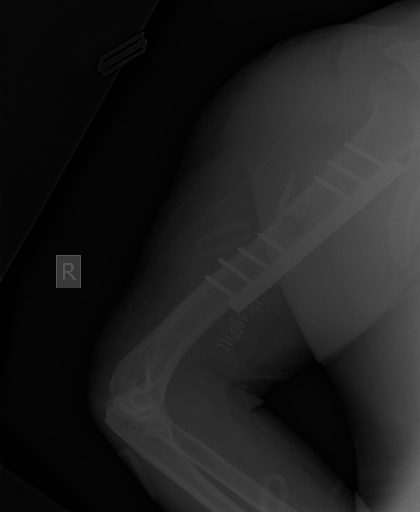implant: (200, 230, 301, 312), (312, 137, 406, 207)
